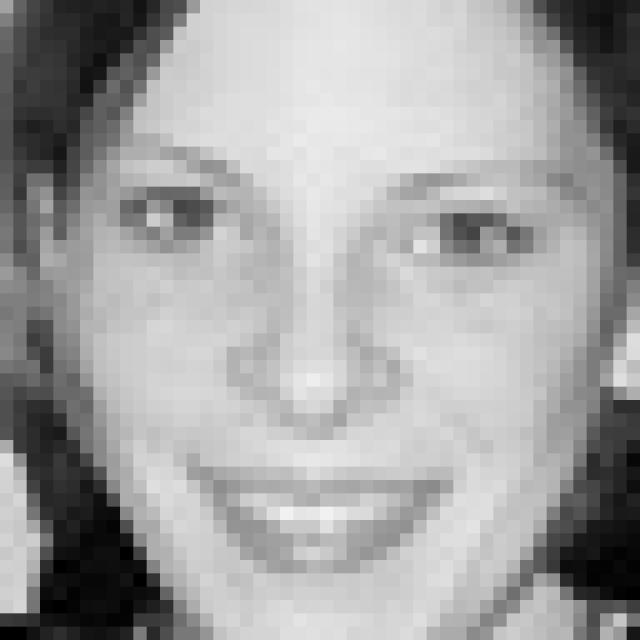happy: (102, 130, 589, 582)
